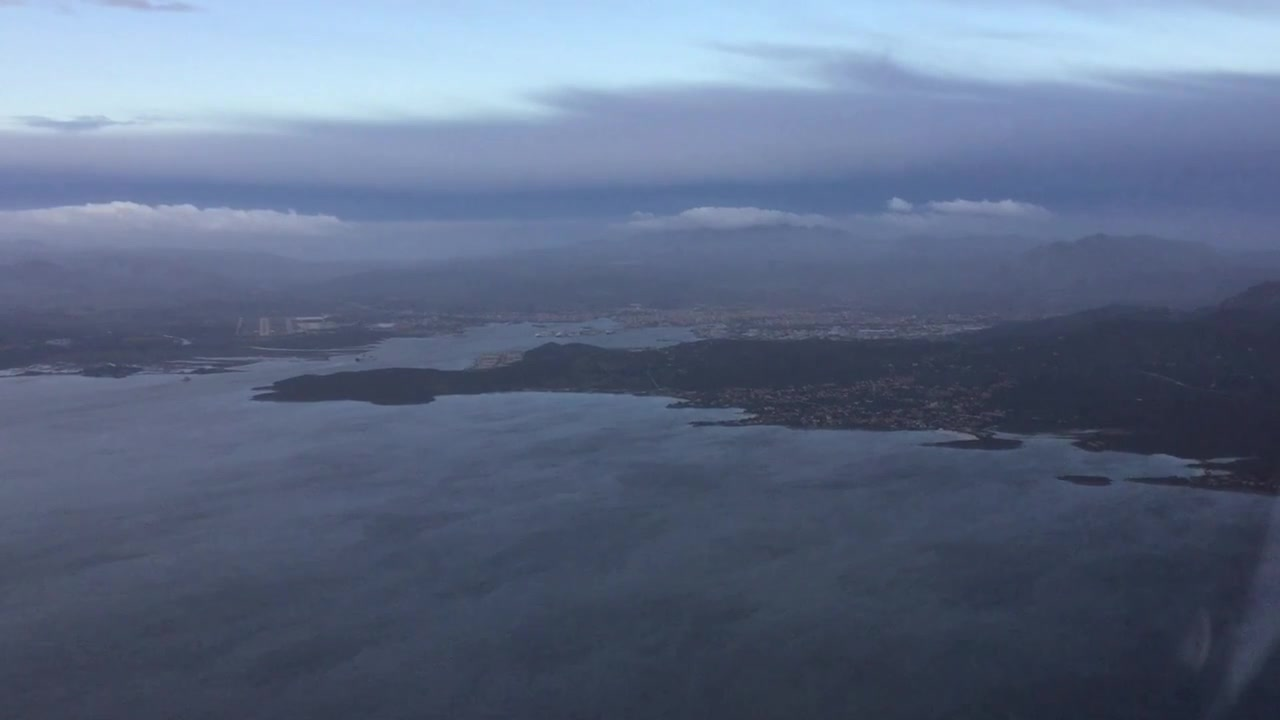runway: (256, 317, 271, 338)
